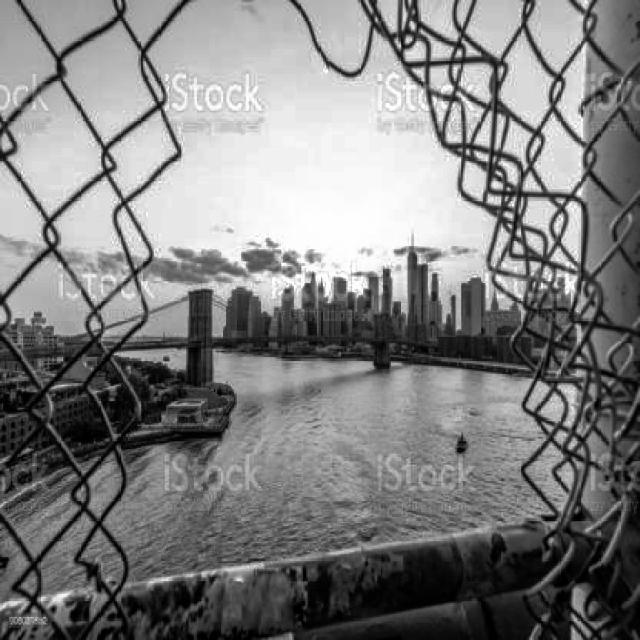anomaly-fence: (56, 0, 623, 640)
